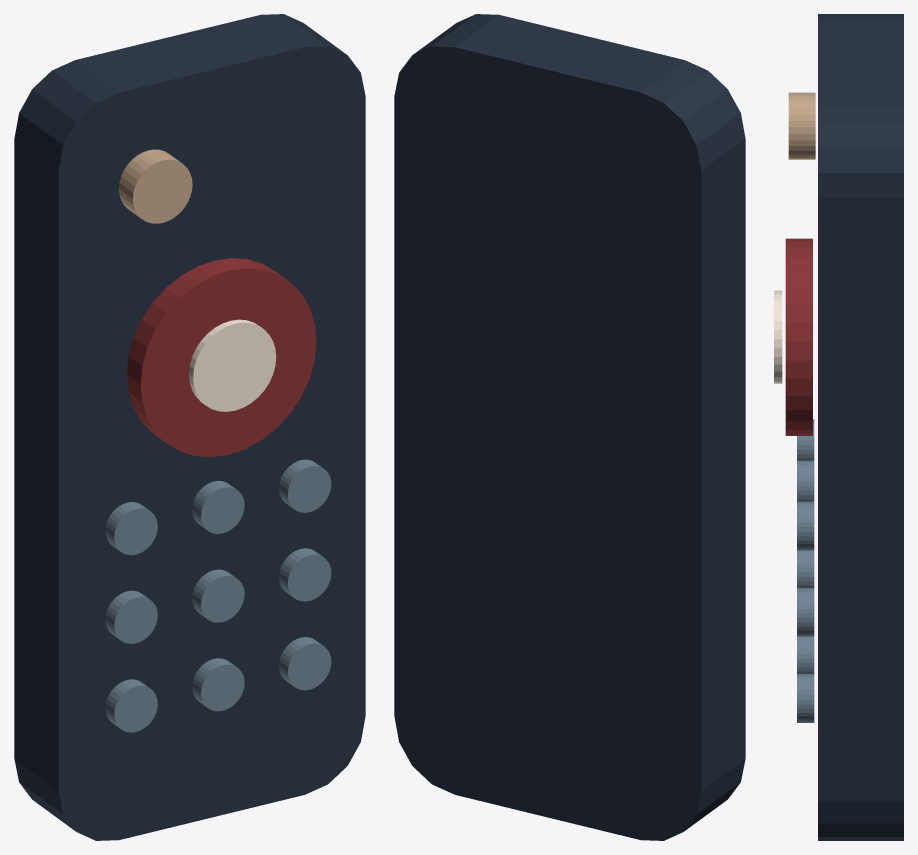
Rendered from remote.glb.
The picture shows the model from 3 angles, left to right: view 1: azimuth 30°, elevation 25°; view 2: azimuth 150°, elevation 25°; view 3: azimuth 270°, elevation 25°; orthographic projection. The views are drawn at different scales.
Parts seen in each view (by area): view 1: housing, direction ring, ok button, power key, key 1-2, key 0-2, key 1-1, key 0-1, key 2-1, key 0-0, key 2-0, key 1-0 (+1 smaller); view 2: housing; view 3: housing, direction ring, power key, key 2-0, key 2-1, key 2-2, ok button, key 1-0, key 1-1, key 1-2, key 0-0.
Part boxes in pixels (left/top/right/bottom): housing: left=14, top=14, right=365, bottom=840; direction ring: left=126, top=258, right=316, bottom=457; ok button: left=189, top=319, right=276, bottom=411; power key: left=119, top=149, right=192, bottom=223; key 1-2: left=192, top=658, right=244, bottom=711; key 0-2: left=105, top=679, right=157, bottom=732; key 1-1: left=192, top=569, right=244, bottom=622; key 0-1: left=105, top=590, right=157, bottom=643; key 2-1: left=279, top=548, right=331, bottom=601; key 0-0: left=105, top=502, right=157, bottom=555; key 2-0: left=279, top=459, right=331, bottom=512; key 1-0: left=192, top=480, right=244, bottom=533; housing: left=394, top=14, right=745, bottom=840; housing: left=818, top=14, right=903, bottom=840; direction ring: left=785, top=238, right=812, bottom=435; power key: left=788, top=92, right=815, bottom=159; key 2-0: left=797, top=501, right=814, bottom=550; key 2-1: left=797, top=588, right=814, bottom=636; key 2-2: left=797, top=674, right=814, bottom=722; ok button: left=774, top=290, right=782, bottom=383; key 1-0: left=797, top=460, right=814, bottom=501; key 1-1: left=797, top=550, right=814, bottom=587; key 1-2: left=797, top=636, right=814, bottom=673; key 0-0: left=797, top=419, right=814, bottom=460.
Bounding box in the file's own units: 0.76 × 1.77 × 0.287.
